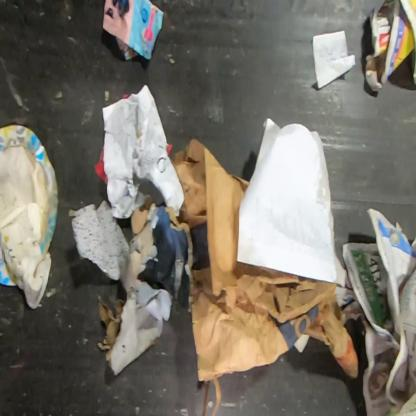cardboard: (170, 138, 336, 322), (97, 203, 193, 376), (191, 284, 359, 382), (0, 124, 59, 254), (0, 244, 17, 286)
